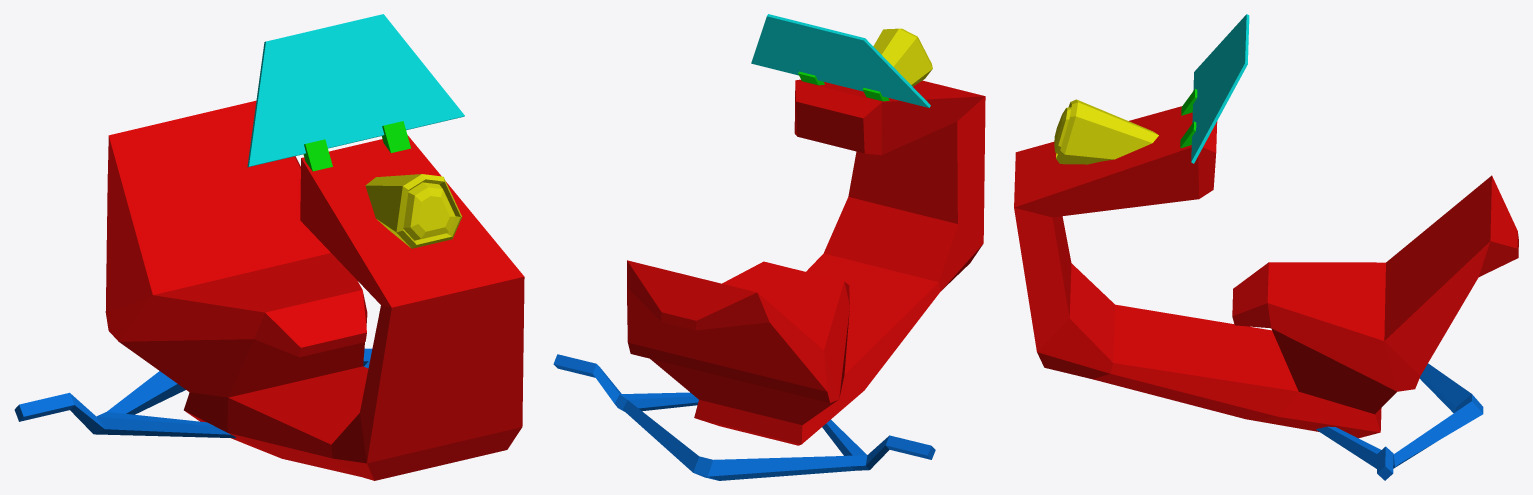
The model's file is skelett_uv.fbx.
3 views of the same model, side by side, from view 1: azimuth 30°, elevation 25°; view 2: azimuth 150°, elevation 25°; view 3: azimuth 270°, elevation 25° (orthographic). The views are drawn at different scales.
Visible parts, largest first — view 1: skelett; view 2: skelett; view 3: skelett.
Boxes of the visible parts, bbox=[...] form: skelett: bbox=[14, 14, 524, 480]; skelett: bbox=[553, 14, 985, 480]; skelett: bbox=[1014, 14, 1518, 480].
Bounding box in the file's own units: 224 × 214 × 254.
